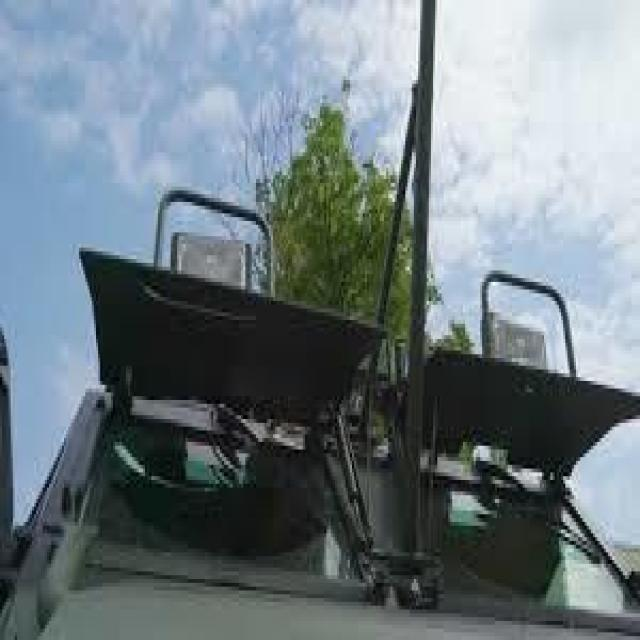Tanks: (48, 82, 624, 619)
